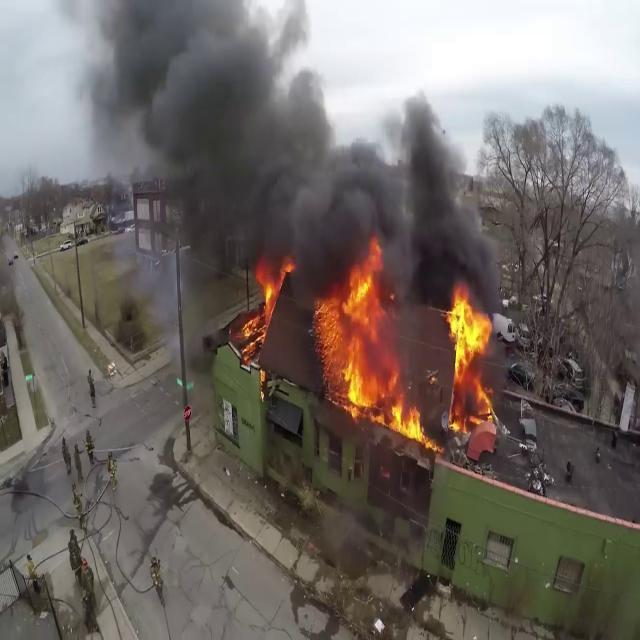Fire: (313, 254, 427, 439), (441, 286, 502, 426), (238, 265, 280, 358)
Smoke: (84, 0, 388, 294), (389, 84, 504, 304)
